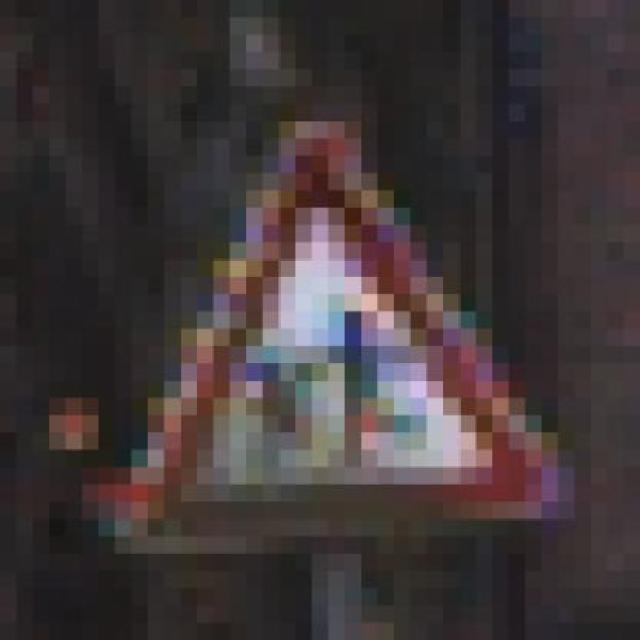Beware of children: (66, 86, 592, 554)
